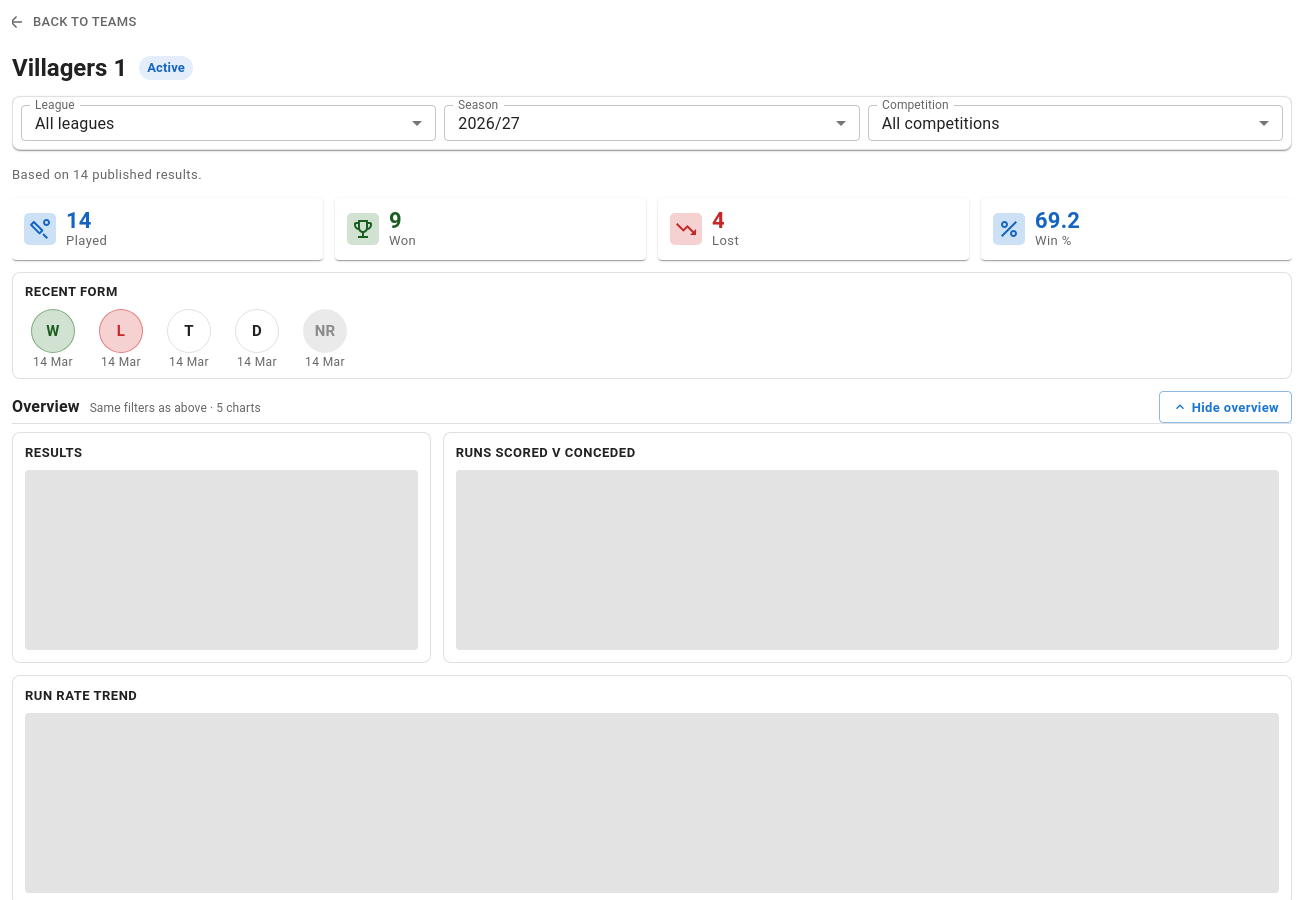
TeamStatsPage › empty, loading and error states › keeps the last figures on screen while a filter change loads
This screenshot has width=1304, height=900.
Click the dropdown named "Season".
click(489, 123)  # box x1=458 y1=114 x2=520 y2=132
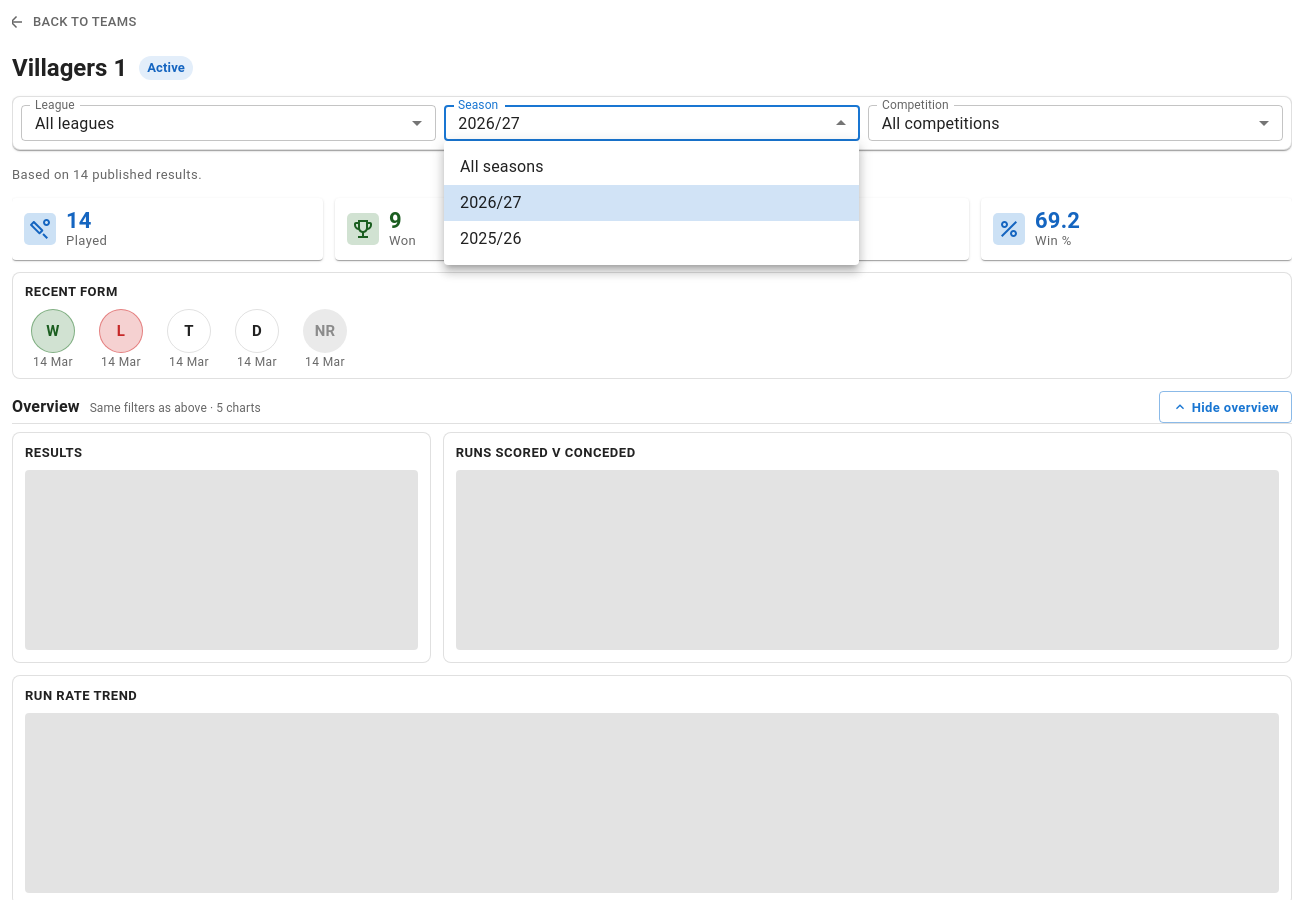
Click the option "2025/26".
click(491, 238)  # box x1=460 y1=229 x2=522 y2=248
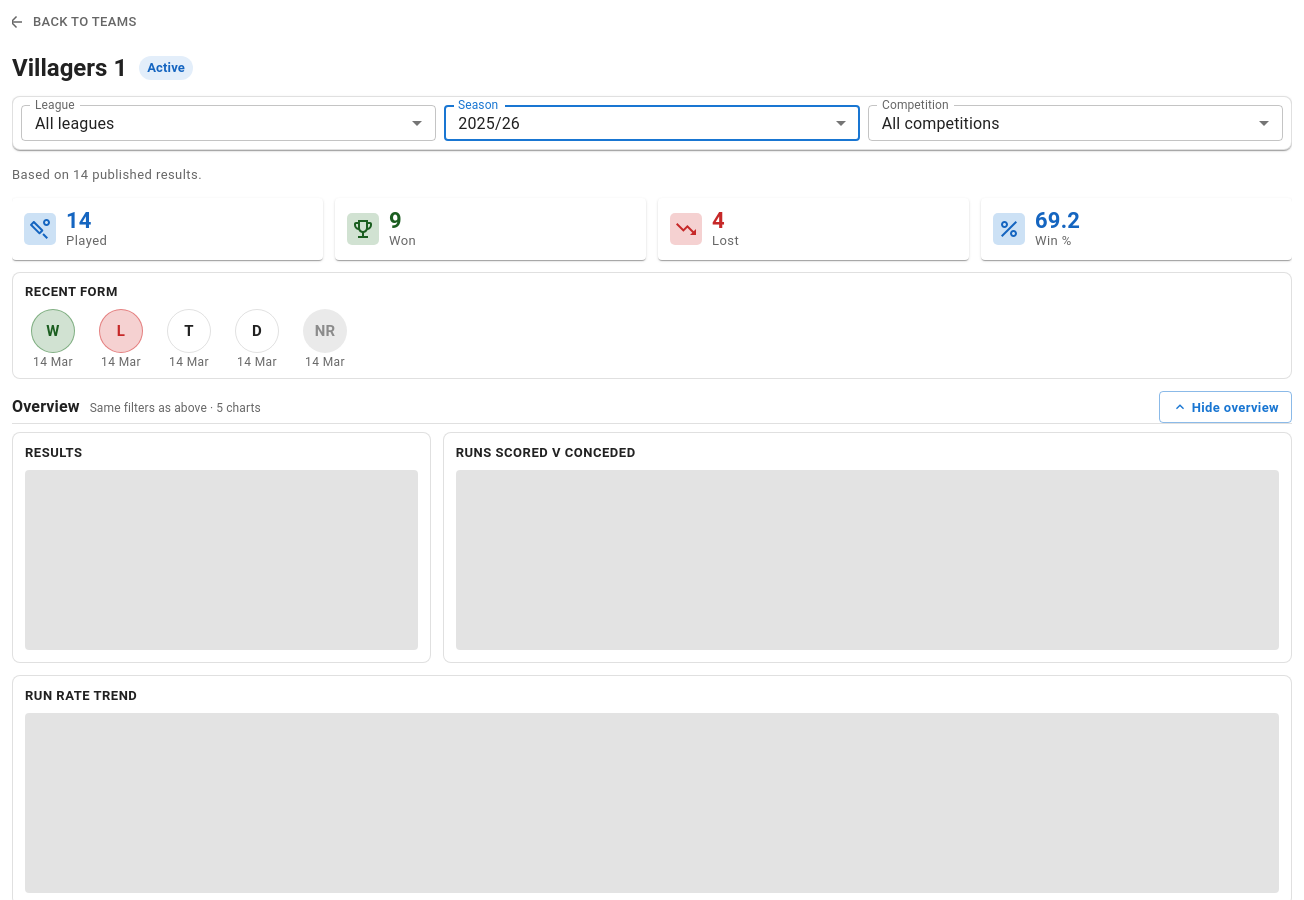
Expected: the element with test id "tile-played" is shown, x1=12 y1=198 x2=323 y2=260
Now the dropdown named "Season" reads "2025/26", box x1=458 y1=114 x2=520 y2=132
